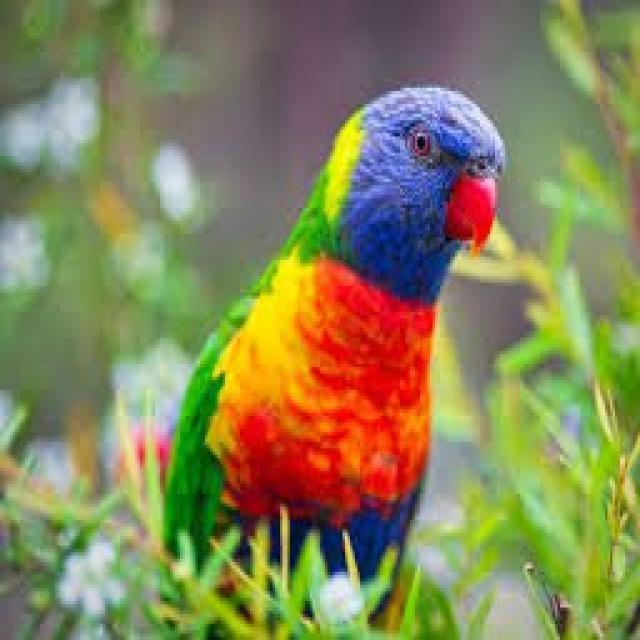Parrot: (156, 76, 512, 616)
